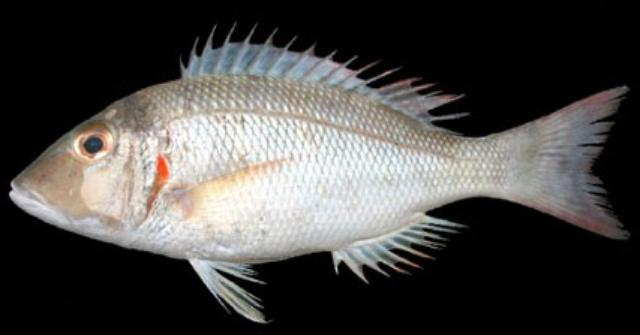Mulut: (1, 162, 54, 238)
Sirip Anal: (324, 212, 472, 292)
Sirip Dada: (148, 151, 308, 237)
Sirip Ekor: (492, 78, 640, 252)
Sirip Perut: (182, 253, 280, 335)
Sirip Punggung: (174, 14, 472, 138)
